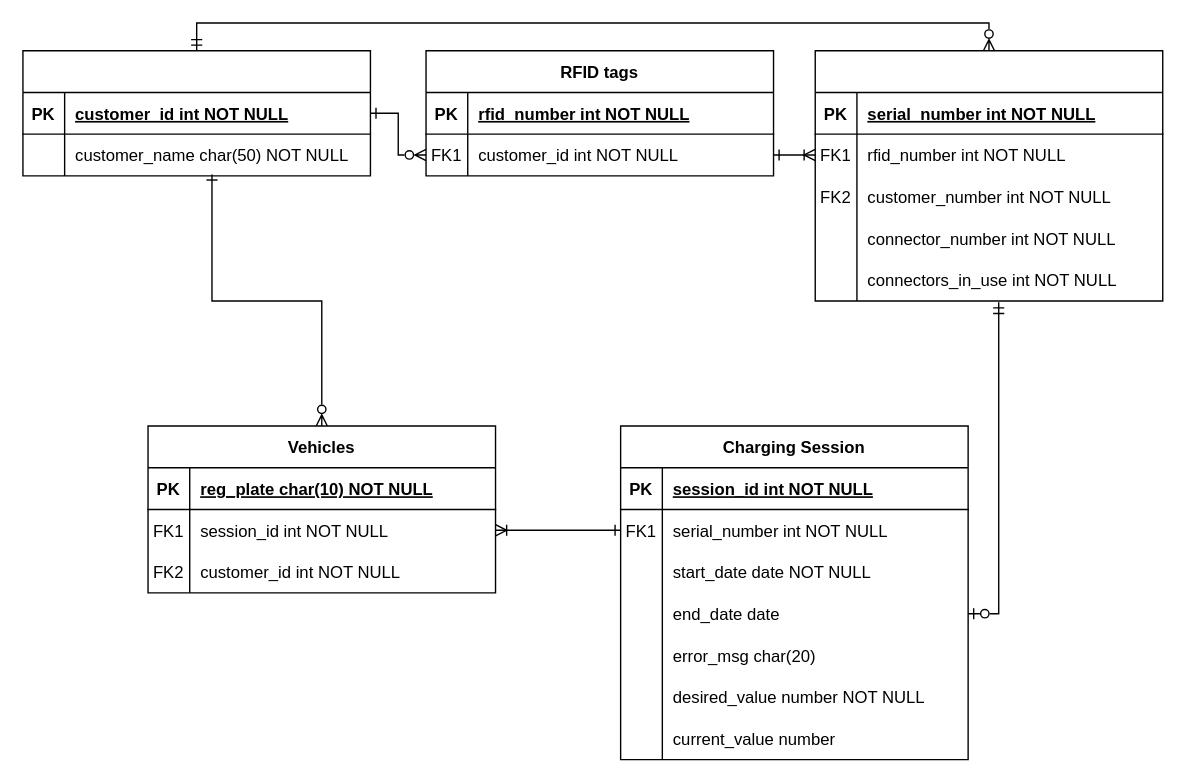
Image size: 1186x783. Some labels were removed from this diagram. The box of each missing label's shape, as (x1, y1, x2, y2) in pixels:
Charge Points: (814, 49, 1163, 301)
Customers: (22, 49, 370, 176)
